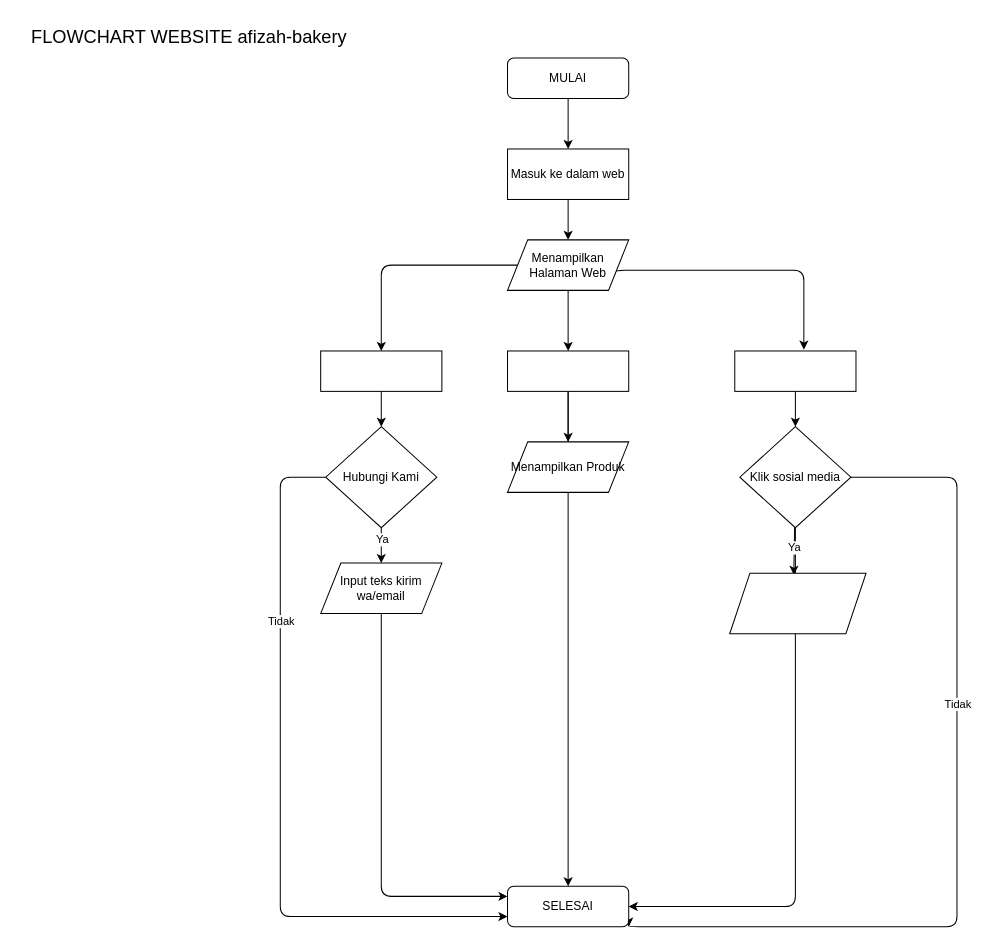
Image size: 988x952. Some labels were removed from this diagram. The centre of each missing label's shape, as x and y in pixels:
Beranda: the point at 381,370
Kontak: the point at 795,370
Menampilkan Sosial Media (FB, IG, TIK TOK): the point at 797,603
Produk: the point at 568,370
